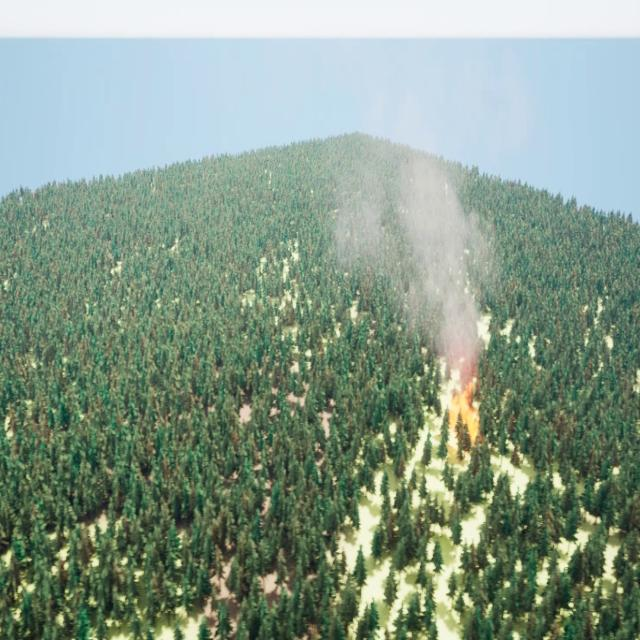fire: (448, 382, 480, 444)
smoke: (334, 144, 496, 365)
